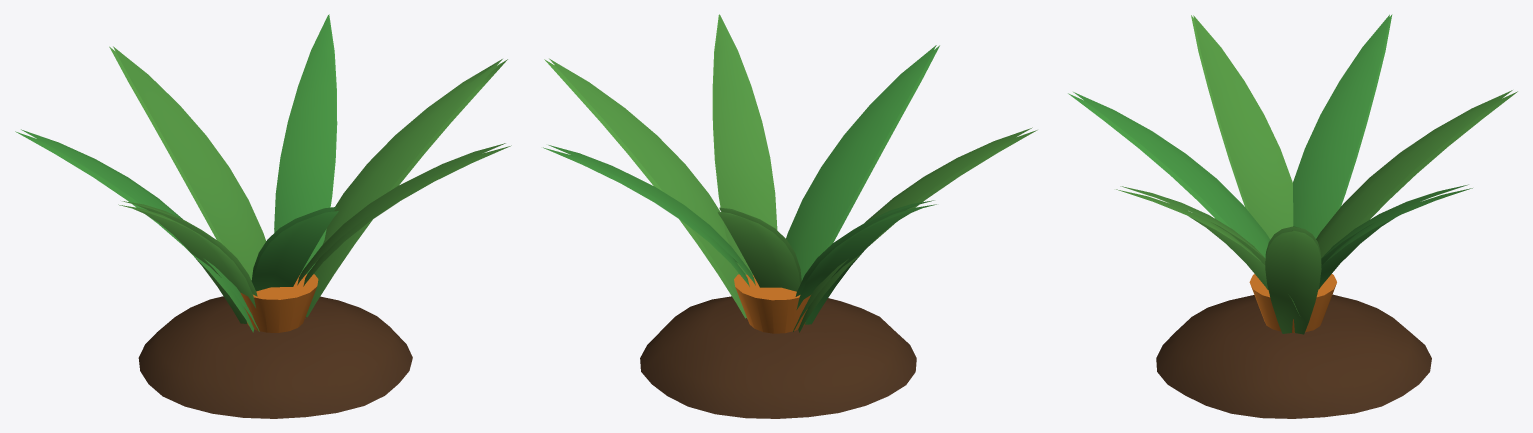
File: carrot-2.glb
3 renders of one model, left to right at view 1: azimuth 30°, elevation 25°; view 2: azimuth 150°, elevation 25°; view 3: azimuth 270°, elevation 25°, orthographic.
Visible parts, largest first — view 1: carrot-2; view 2: carrot-2; view 3: carrot-2.
Boxes of the visible parts, <box> form: carrot-2: <box>15,14,511,418</box>; carrot-2: <box>543,14,1037,418</box>; carrot-2: <box>1068,14,1517,418</box>.
Bounding box in the file's own units: 0.818 × 0.4945 × 0.7212.
